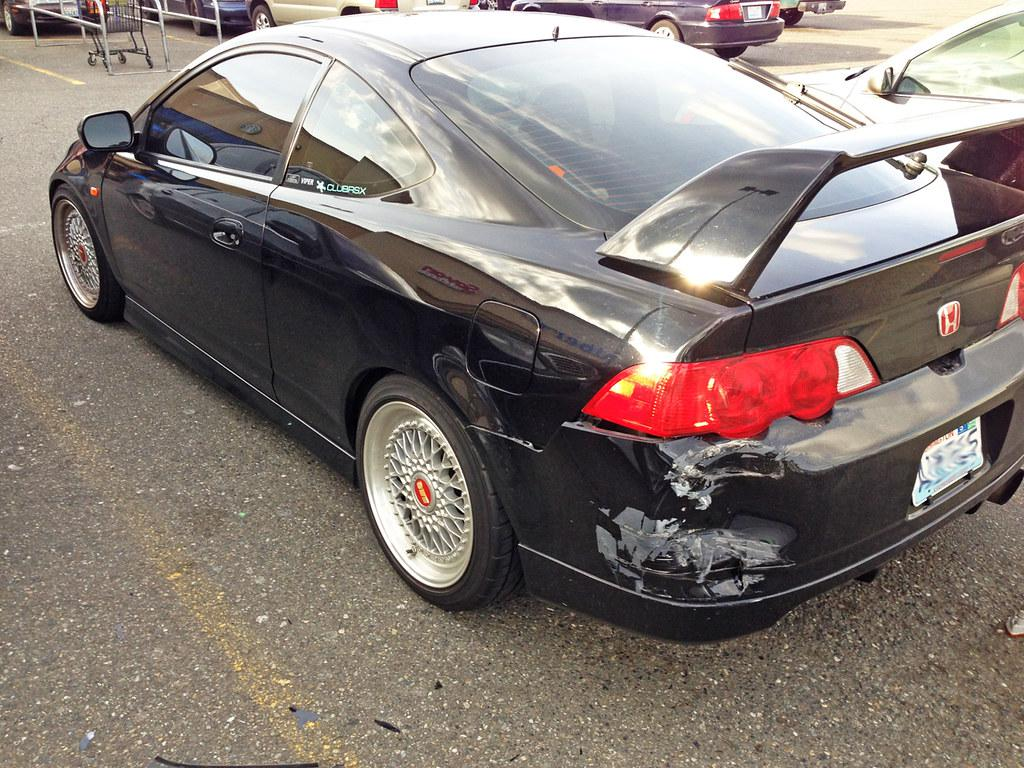rear-bumper-dent: (531, 450, 906, 626)
